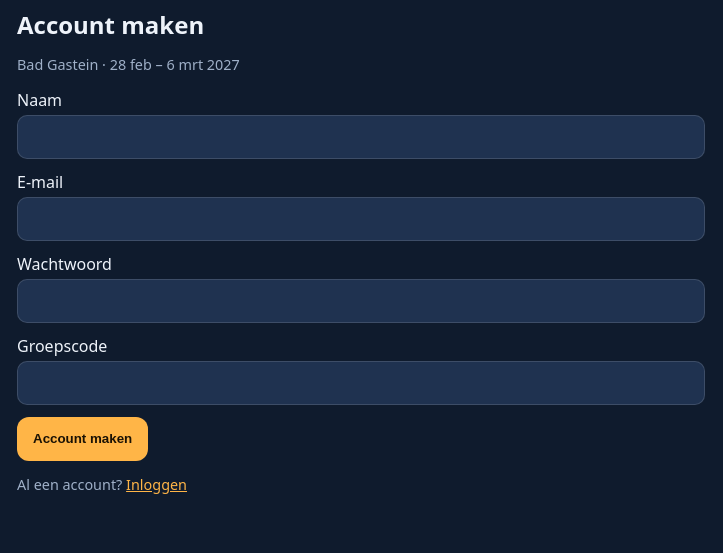
RegisterPage › shows a Dutch message for a wrong group code
The image size is (723, 553).
Type "Anna" into the field labelled "Naam" at (361, 137), box [17,115,705,159]
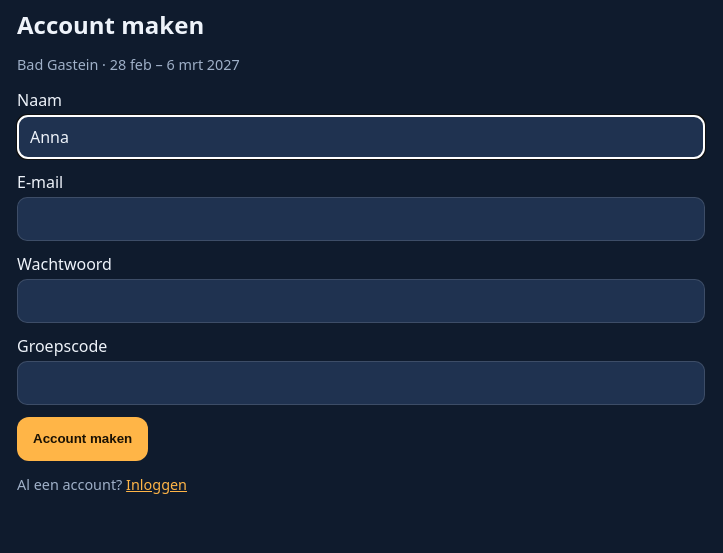
Type "anna@test.nl" into the field labelled "E-mail" at (361, 219), box [17,197,705,241]
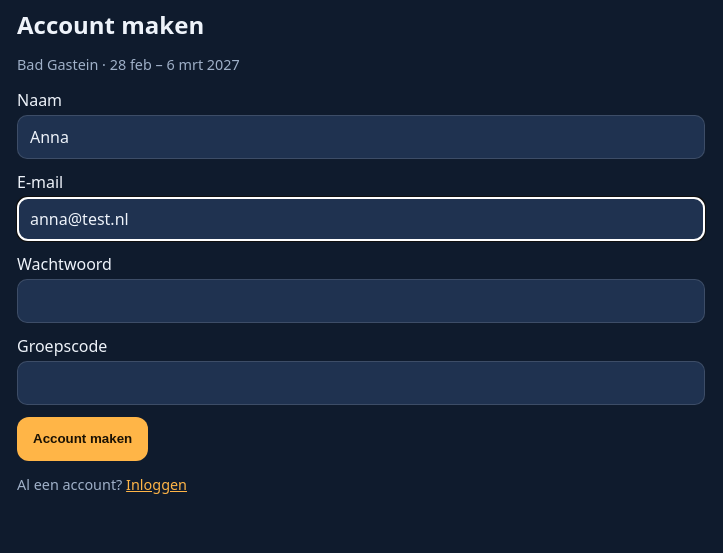
Type "geheim123" into the password field labelled "Wachtwoord" at (361, 301), box [17,279,705,323]
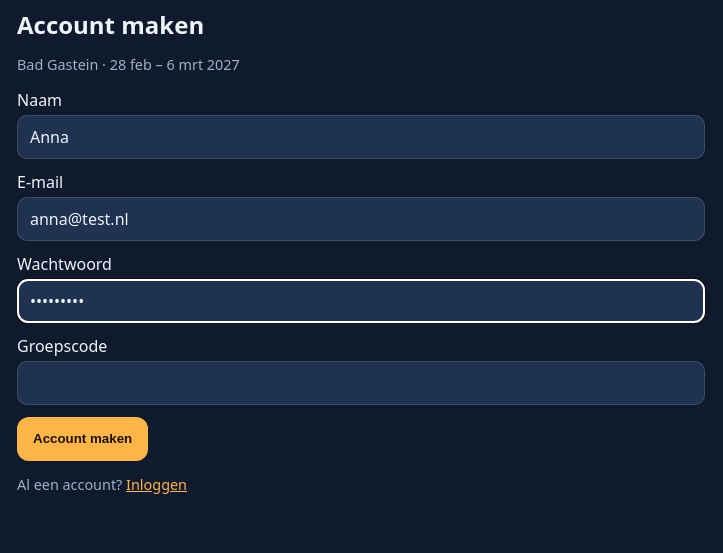
Type "SOIPEN" into the field labelled "Groepscode" at (361, 383), box [17,361,705,405]
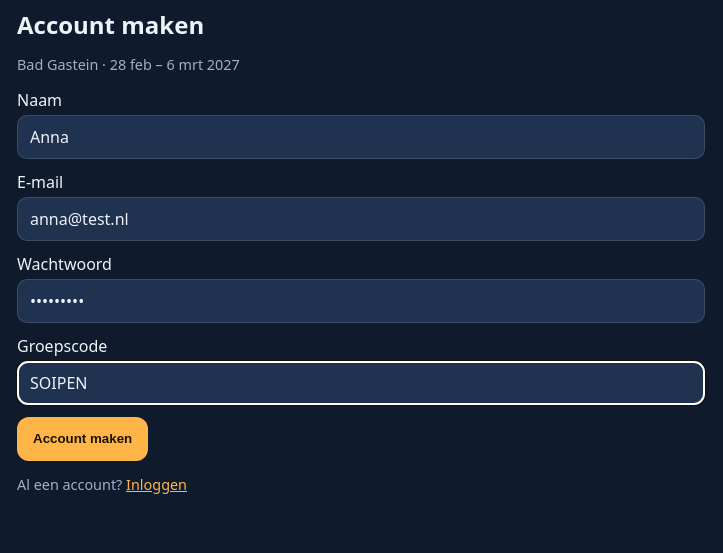
Click the button "Account maken" at (83, 439), box [17,417,148,461]
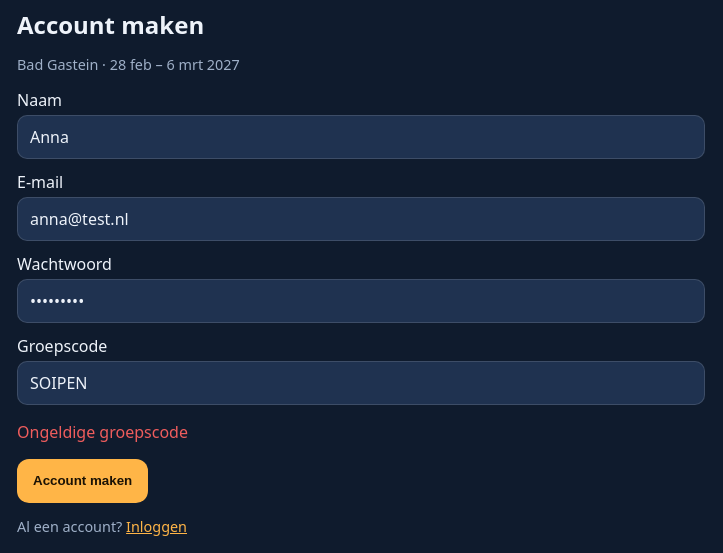
Expected: the text "Ongeldige groepscode" is shown, [17,421,188,443]
